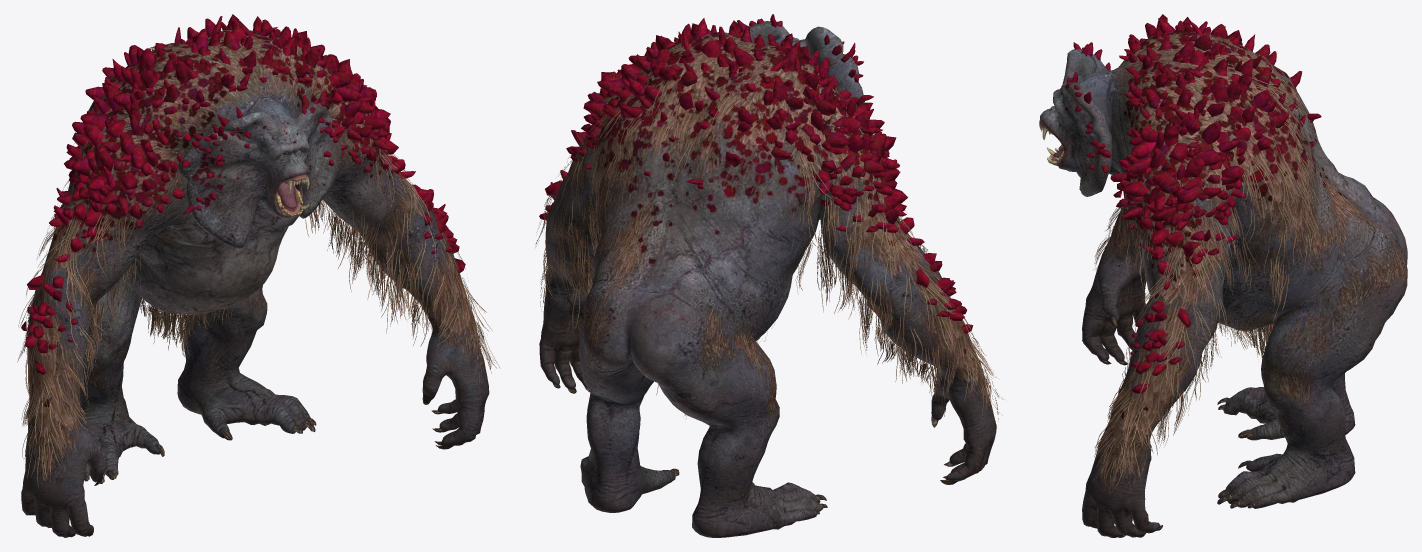
File: pet-1010.glb
The picture shows the model from 3 angles, left to right: view 1: azimuth 30°, elevation 25°; view 2: azimuth 150°, elevation 25°; view 3: azimuth 270°, elevation 25°; orthographic projection. The views are drawn at different scales.
Parts seen in each view (by area): view 1: VEH_ManduriWar_01; view 2: VEH_ManduriWar_01; view 3: VEH_ManduriWar_01.
Part boxes in pixels (<box>): VEH_ManduriWar_01: <box>17,14,500,537</box>; VEH_ManduriWar_01: <box>535,14,1002,537</box>; VEH_ManduriWar_01: <box>1039,14,1407,537</box>.
Bounding box in the file's own units: 3.42 × 3.02 × 2.4.
Materials: 1 (1 with a texture image).
